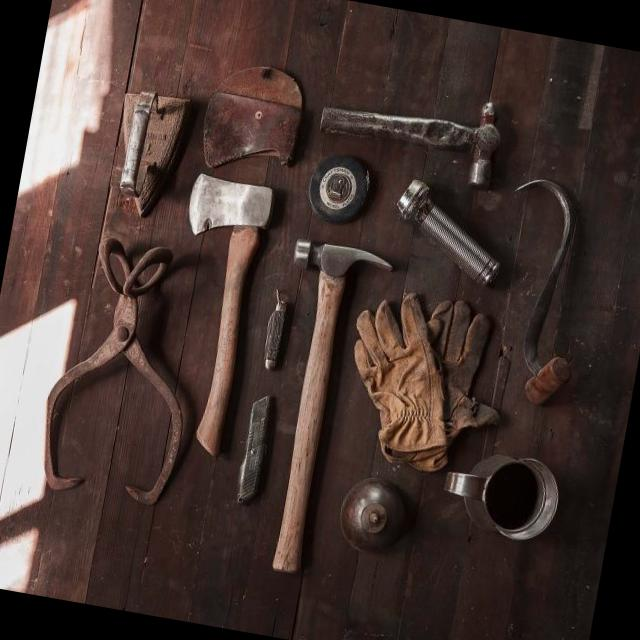Axe: (189, 173, 273, 454)
